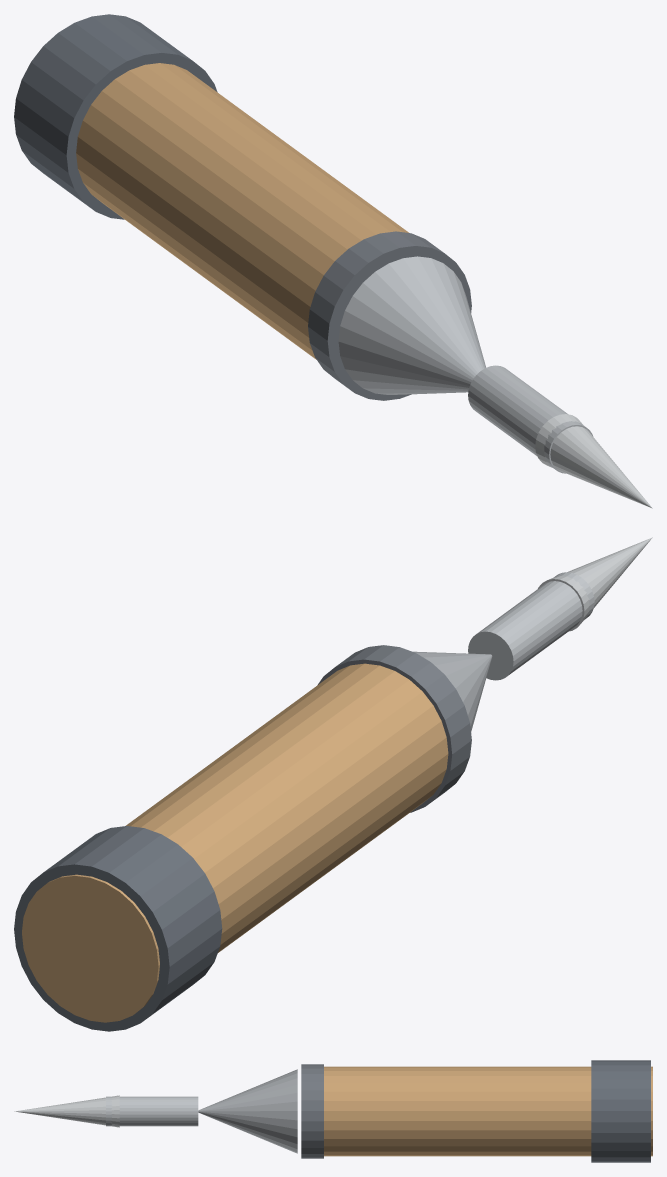
File: drill_pen.glb
3 views of the same model, one above another, from view 1: azimuth 30°, elevation 25°; view 2: azimuth 150°, elevation 25°; view 3: azimuth 270°, elevation 25° (orthographic). The views are drawn at different scales.
Parts seen in each view (by area): view 1: drill_pen_part_00, drill_pen_part_03, drill_pen_part_01, drill_pen_part_02, drill_pen_part_04, drill_pen_part_05; view 2: drill_pen_part_00, drill_pen_part_01, drill_pen_part_04, drill_pen_part_02, drill_pen_part_03, drill_pen_part_05; view 3: drill_pen_part_00, drill_pen_part_01, drill_pen_part_03, drill_pen_part_04, drill_pen_part_02, drill_pen_part_05.
Boxes of the visible parts, bbox=[...] form: drill_pen_part_00: bbox=[76, 63, 408, 359]; drill_pen_part_03: bbox=[338, 256, 485, 394]; drill_pen_part_01: bbox=[14, 14, 217, 219]; drill_pen_part_02: bbox=[308, 231, 471, 400]; drill_pen_part_04: bbox=[468, 365, 593, 473]; drill_pen_part_05: bbox=[535, 414, 652, 508]; drill_pen_part_00: bbox=[22, 663, 448, 1022]; drill_pen_part_01: bbox=[14, 826, 222, 1031]; drill_pen_part_04: bbox=[468, 572, 594, 680]; drill_pen_part_02: bbox=[318, 645, 471, 812]; drill_pen_part_03: bbox=[413, 651, 492, 731]; drill_pen_part_05: bbox=[538, 537, 652, 631]; drill_pen_part_00: bbox=[324, 1066, 652, 1156]; drill_pen_part_01: bbox=[591, 1060, 650, 1162]; drill_pen_part_03: bbox=[198, 1069, 297, 1153]; drill_pen_part_04: bbox=[106, 1096, 198, 1126]; drill_pen_part_02: bbox=[301, 1064, 323, 1158]; drill_pen_part_05: bbox=[14, 1095, 119, 1127].
Bounding box in the file's own units: 0.082 × 0.082 × 0.5135.
